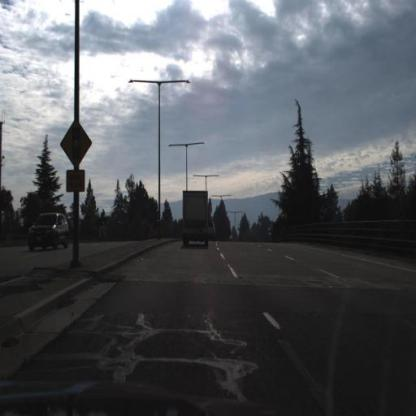car: (28, 212, 68, 252), (206, 218, 216, 240)
truck: (181, 188, 208, 249)
